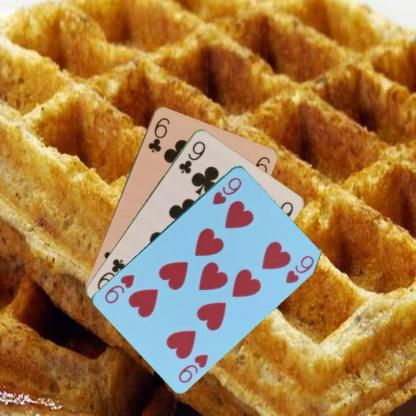6c: (145, 115, 171, 154)
9c: (176, 138, 206, 176)
9h: (176, 350, 210, 384), (210, 174, 244, 206)
